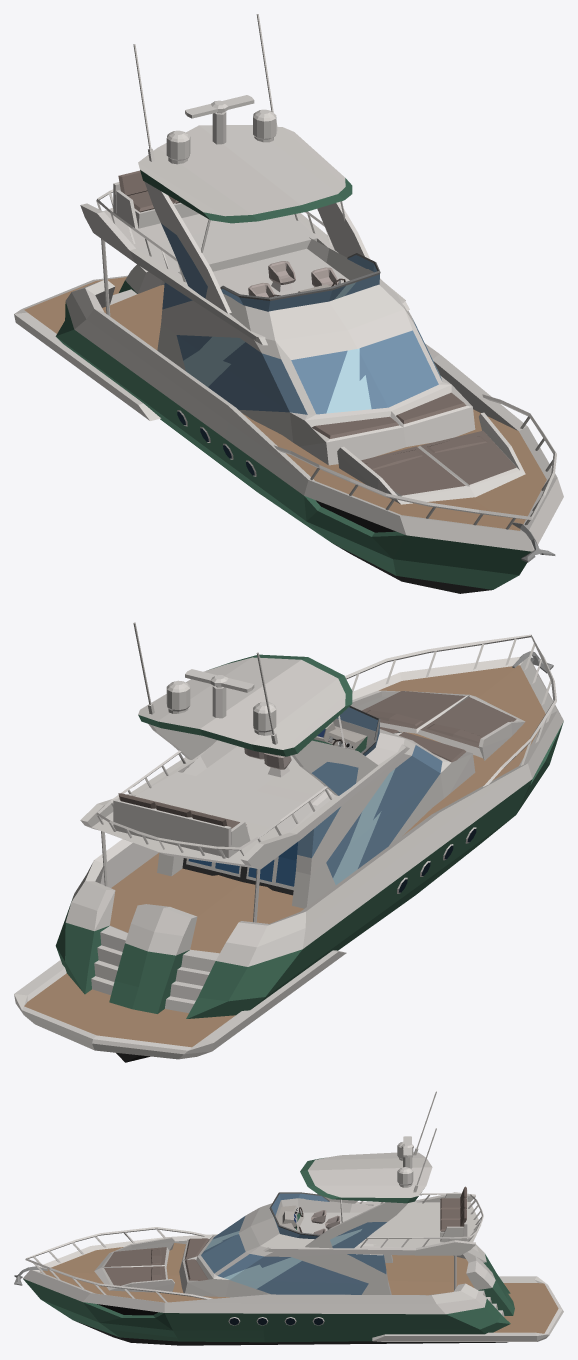
Rendered from Yacht Small C.fbx.
3 renders of one model, top to bottom at view 1: azimuth 30°, elevation 25°; view 2: azimuth 150°, elevation 25°; view 3: azimuth 270°, elevation 25°, orthographic. The views are drawn at different scales.
Visible parts, largest first — view 1: Yacht Small C; view 2: Yacht Small C; view 3: Yacht Small C.
Part boxes in pixels (box(x1,y1,x2,y2)): Yacht Small C: box(14, 14, 563, 593); Yacht Small C: box(14, 622, 563, 1062); Yacht Small C: box(14, 1091, 563, 1345).
Bounding box in the file's own units: 540 × 855 × 1840.
